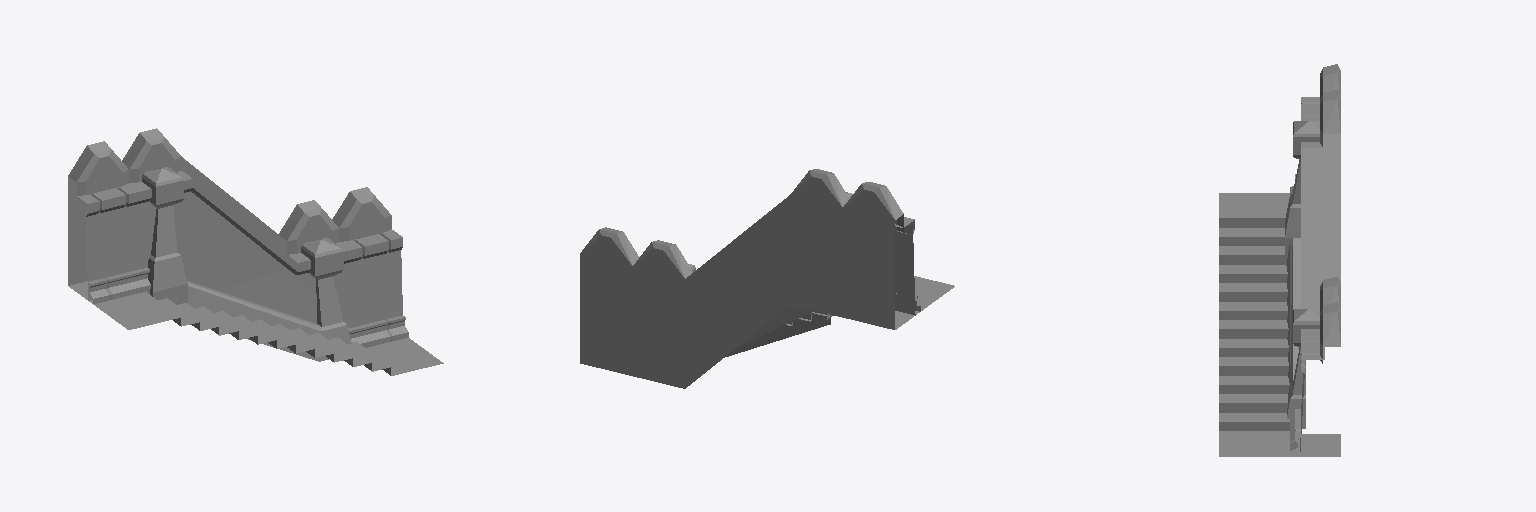
The model's file is Stairs2_Right.obj.
3 renders of one model, left to right at view 1: azimuth 30°, elevation 25°; view 2: azimuth 150°, elevation 25°; view 3: azimuth 270°, elevation 25°, orthographic.
Parts seen in each view (by area): view 1: Palette; view 2: Palette; view 3: Palette.
Part boxes in pixels (left/top/right/bottom): Palette: left=68, top=128, right=443, bottom=375; Palette: left=580, top=169, right=954, bottom=388; Palette: left=1219, top=64, right=1340, bottom=456.
Size of the model in its own units: 18 by 13.5 by 6.